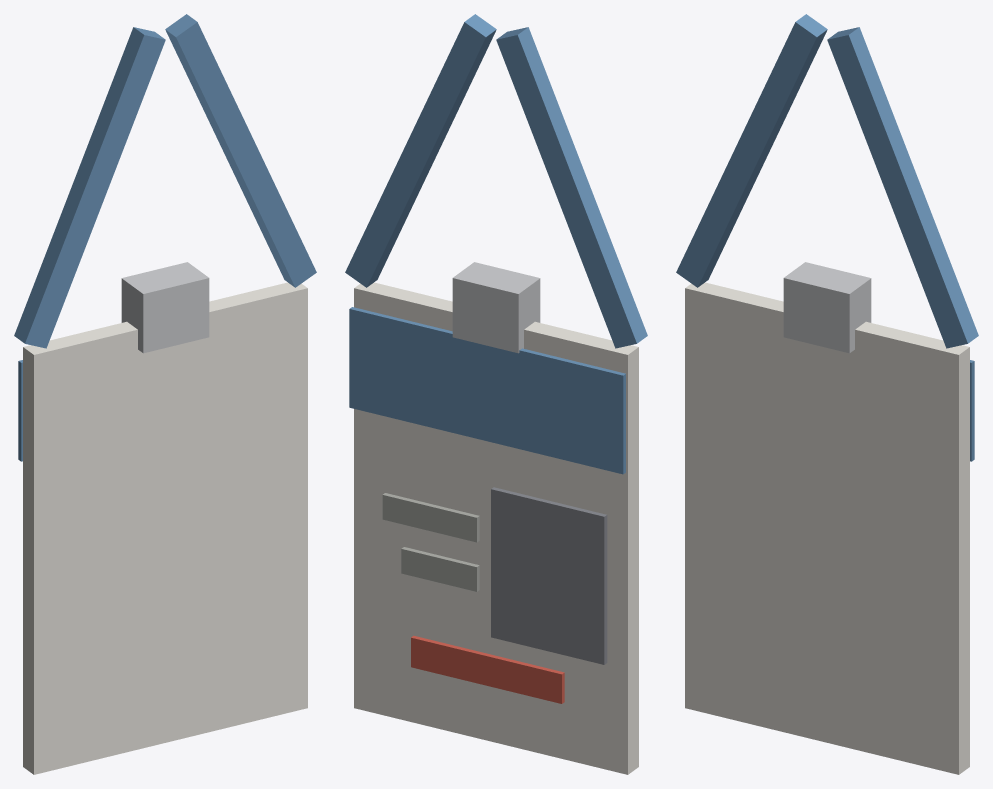
The model's file is work_badge.glb.
3 views of the same model, side by side, from view 1: azimuth 30°, elevation 25°; view 2: azimuth 150°, elevation 25°; view 3: azimuth 330°, elevation 25° (orthographic).
Visible parts, largest first — view 1: work_badge; view 2: work_badge; view 3: work_badge.
Boxes of the visible parts, left/top/right/bottom form: work_badge: left=14, top=14, right=316, bottom=774; work_badge: left=345, top=14, right=647, bottom=774; work_badge: left=676, top=14, right=978, bottom=774.
Size of the model in its own units: 0.0618 by 0.1443 by 0.008.
